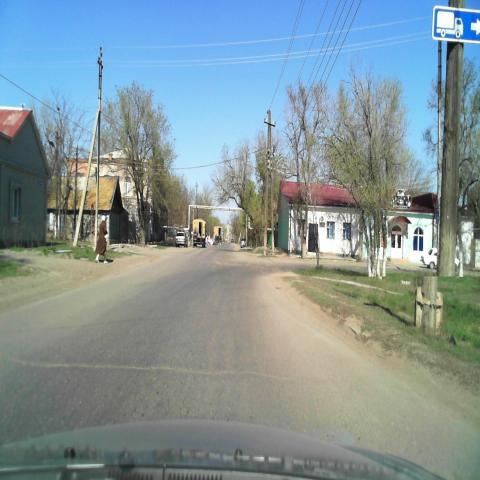6_15_2: (432, 0, 480, 45)
